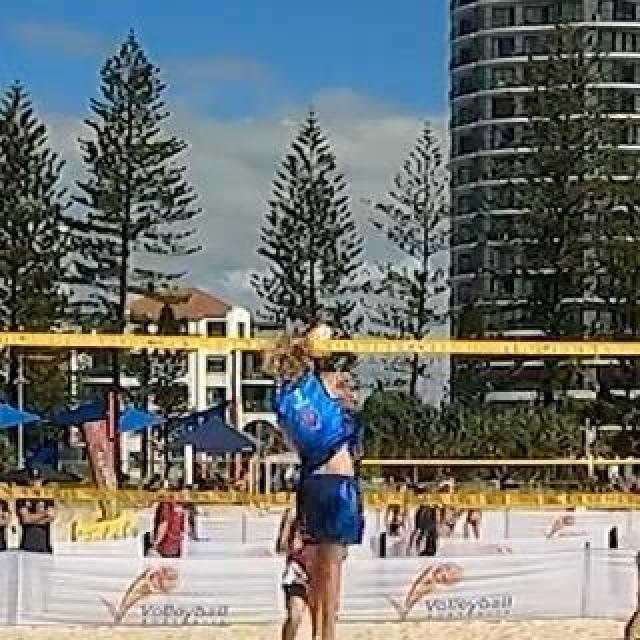volleyball: (298, 321, 334, 359)
